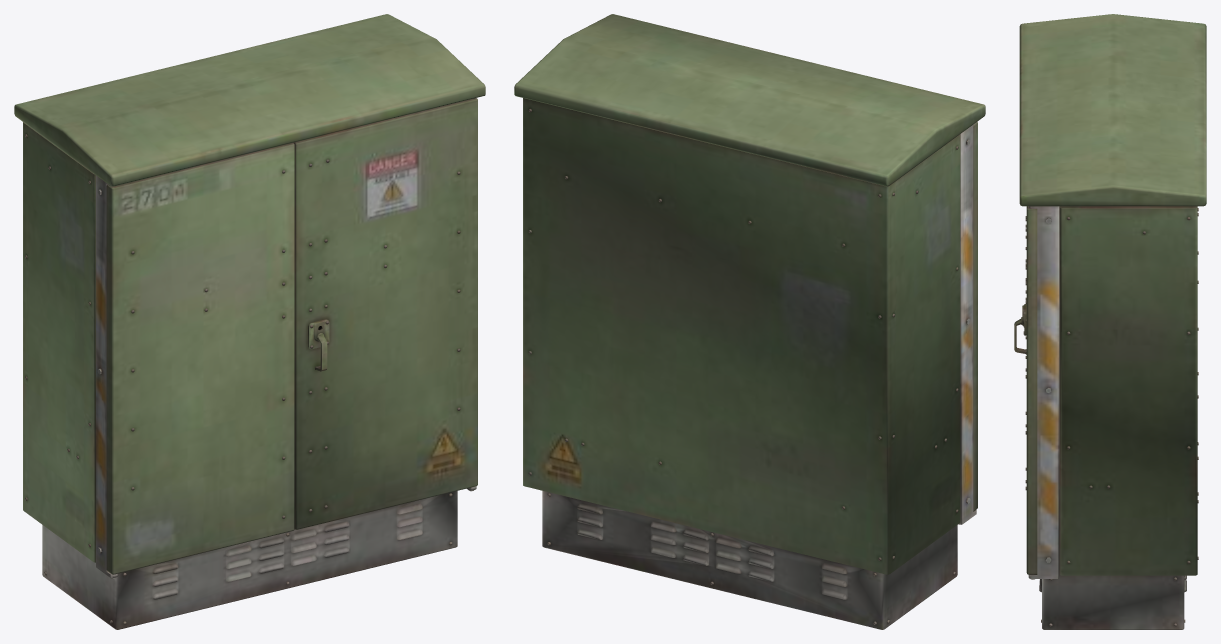
File: utility_box.glb
3 views of the same model, side by side, from view 1: azimuth 30°, elevation 25°; view 2: azimuth 150°, elevation 25°; view 3: azimuth 270°, elevation 25° (orthographic). The views are drawn at different scales.
Parts seen in each view (by area): view 1: utility_box_02; view 2: utility_box_02; view 3: utility_box_02.
Part boxes in pixels (left/top/right/bottom): utility_box_02: left=14, top=14, right=485, bottom=629; utility_box_02: left=514, top=14, right=985, bottom=629; utility_box_02: left=1014, top=14, right=1206, bottom=629.
Size of the model in its own units: 0.92 by 1.12 by 0.432.
Materials: 1 (1 with a texture image).
